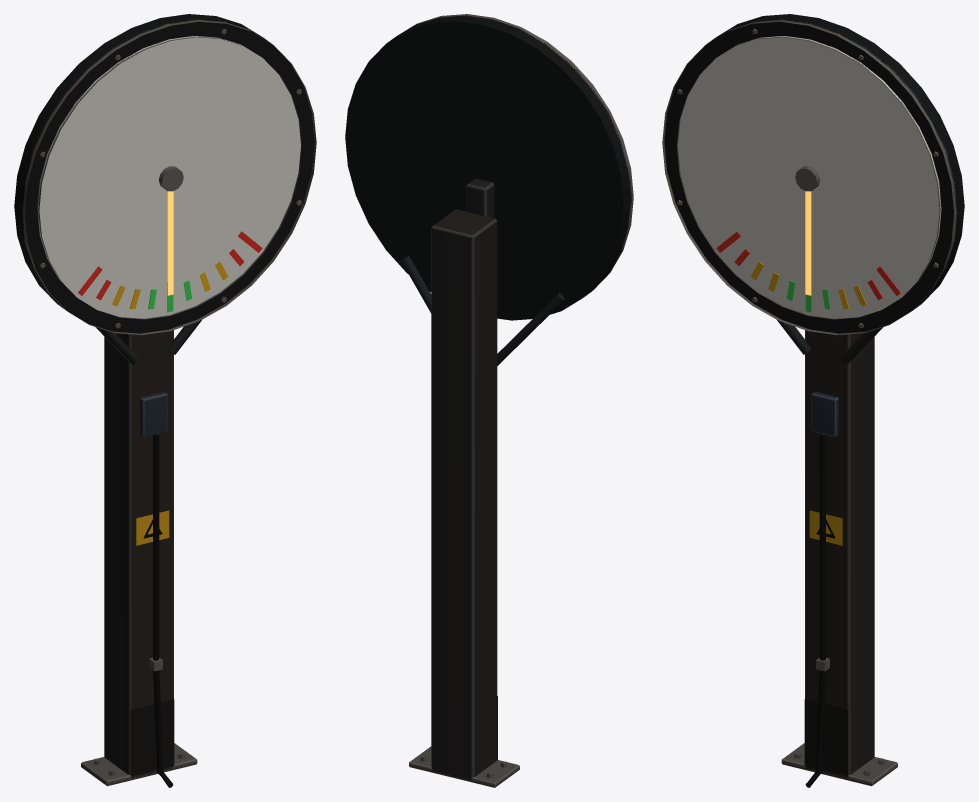
File: tilt_gauge.glb
3 renders of one model, left to right at view 1: azimuth 30°, elevation 25°; view 2: azimuth 150°, elevation 25°; view 3: azimuth 330°, elevation 25°, orthographic. The views are drawn at different scales.
Parts seen in each view (by area): view 1: Frame; view 2: Frame; view 3: Frame.
Boxes of the visible parts, x1,y1,x2,y2 form: Frame: [14, 14, 316, 787]; Frame: [345, 14, 633, 787]; Frame: [662, 14, 964, 787].
Size of the model in its own units: 1.6 by 4 by 0.445.
